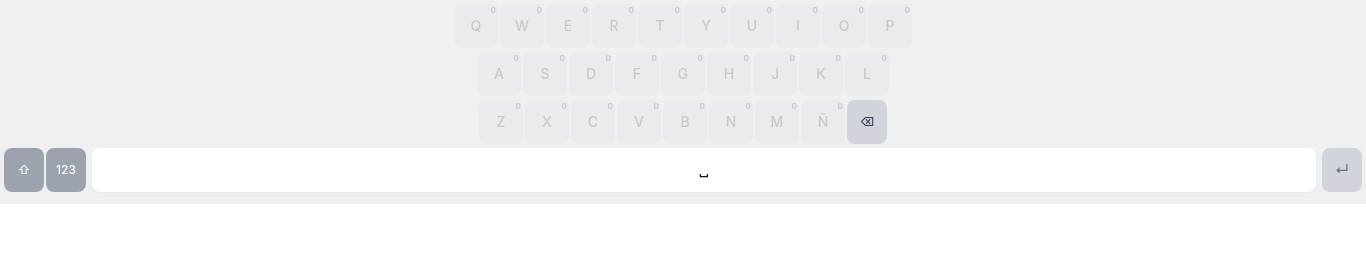
Test case: RestrictedKeyboard › renders all 10 digit keys (0-9) after switching to symbols mode
Step 1. Press the mouse on the button "123" → (66, 170), box [46,148,86,192]
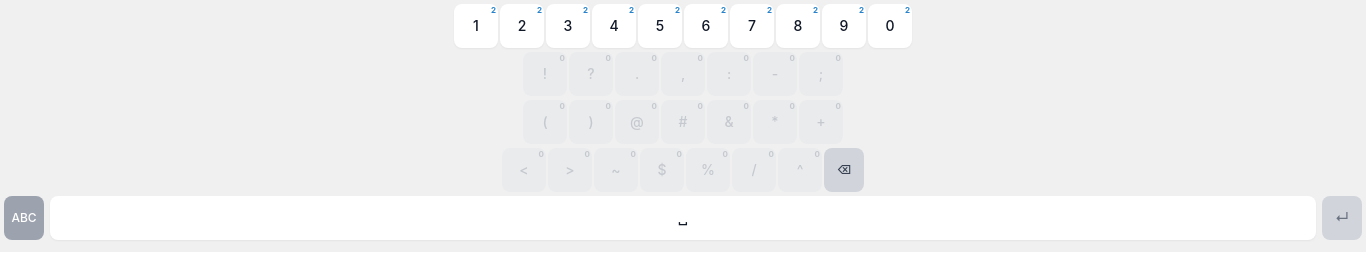
Expected: the button "0 2" is shown, [868,4,912,48]
Expected: the button "1 2" is shown, [454,4,498,48]
Expected: the button "2 2" is shown, [500,4,544,48]
